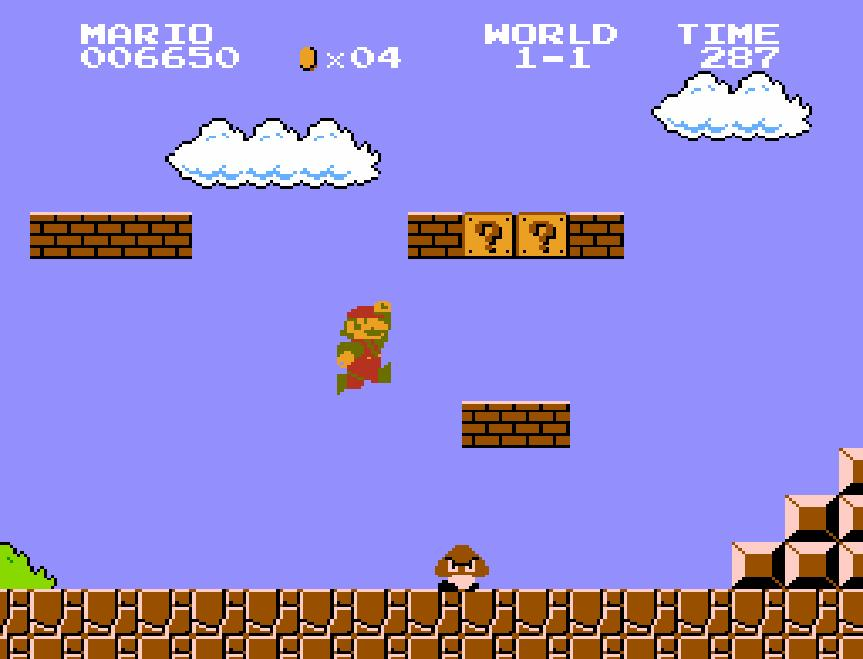big_mario: (335, 298, 393, 396)
